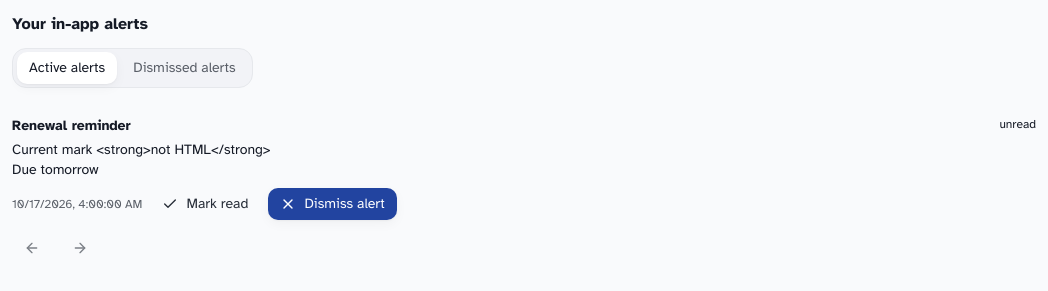
Test: retains the current alert and reports rejected mutation without success or retry
Click the button "Dismiss alert" at (333, 204), box [268,188,397,220]
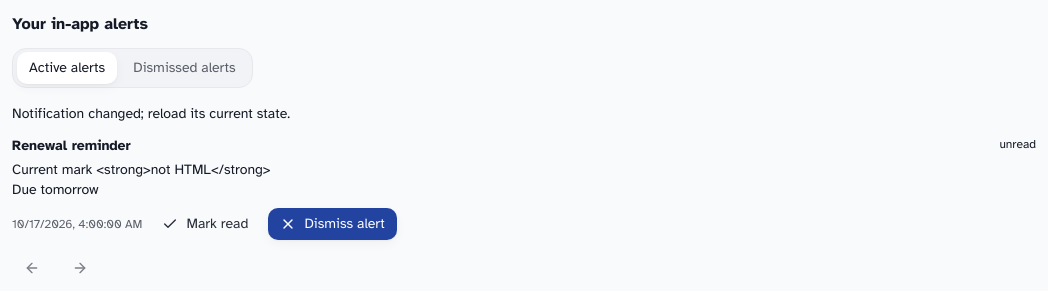
Expected: the list item with test id "in-app-notification-note-1" is shown, [12,124,1036,252]
Result: the message shows "Notification changed" at [12,105,290,122]
